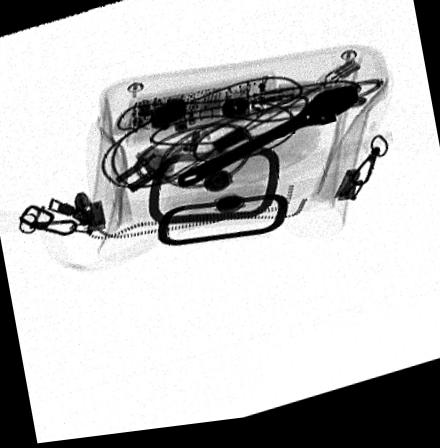Wrench: (174, 92, 358, 192)
